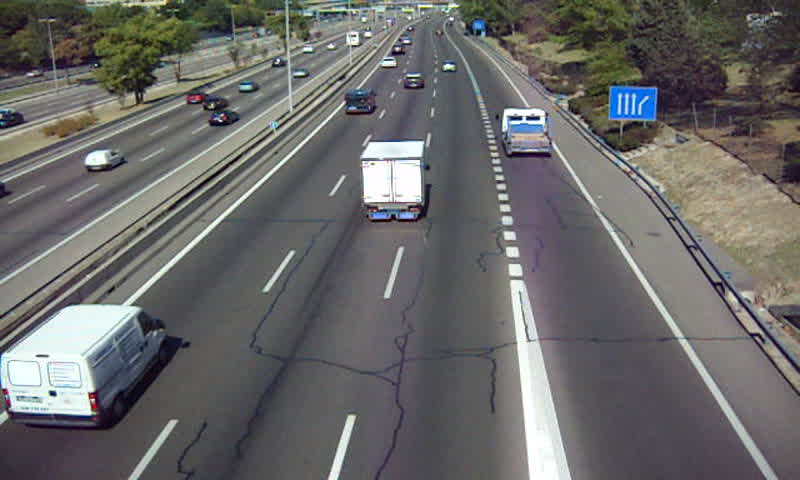car: (402, 72, 425, 92), (379, 55, 397, 70), (441, 60, 458, 72)
small-truck: (361, 141, 428, 221), (501, 107, 552, 155)
van: (1, 305, 168, 430), (343, 89, 375, 116)
